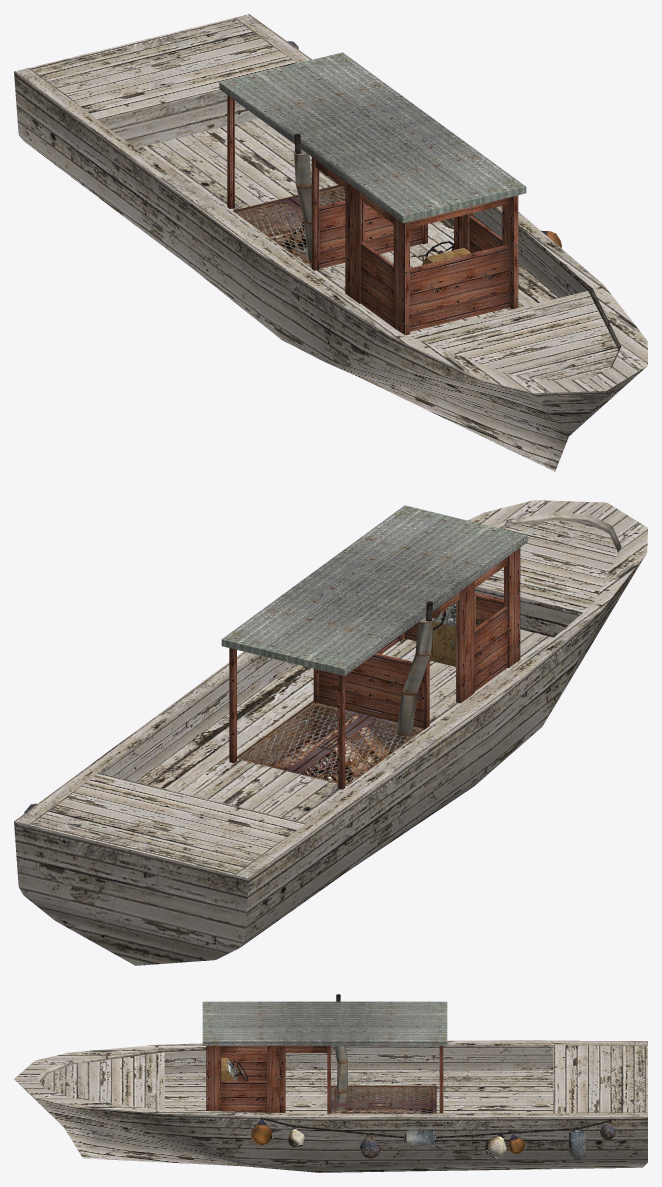
File: Eboat2.glb
3 views of the same model, one above another, from view 1: azimuth 30°, elevation 25°; view 2: azimuth 150°, elevation 25°; view 3: azimuth 270°, elevation 25° (orthographic). The views are drawn at different scales.
Visible parts, largest first — view 1: _Eboat2; view 2: _Eboat2; view 3: _Eboat2.
Boxes of the visible parts, x1,y1,x2,y2 form: _Eboat2: (14,14,647,471); _Eboat2: (14,500,647,965); _Eboat2: (14,994,647,1172).
Bounding box in the file's own units: 6.74 × 5.2 × 21.06.
Materials: 2 (2 with a texture image).
